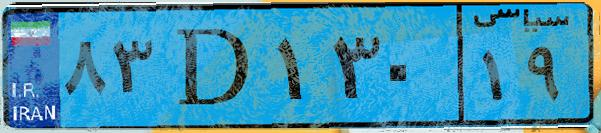0: (385, 28, 445, 110)
1: (270, 28, 330, 110), (475, 38, 525, 113)
3: (330, 28, 385, 110), (110, 28, 158, 98)
8: (57, 26, 110, 100)
9: (525, 38, 570, 115)
D: (158, 12, 270, 120)
